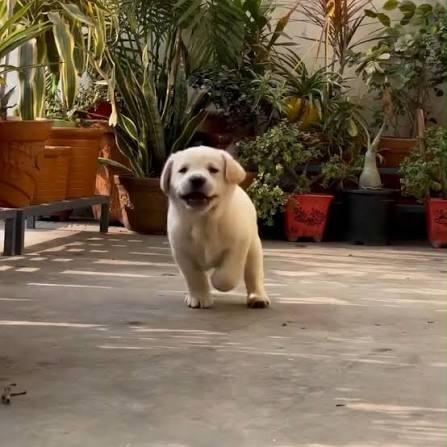puppy-dog: (160, 144, 272, 310)
